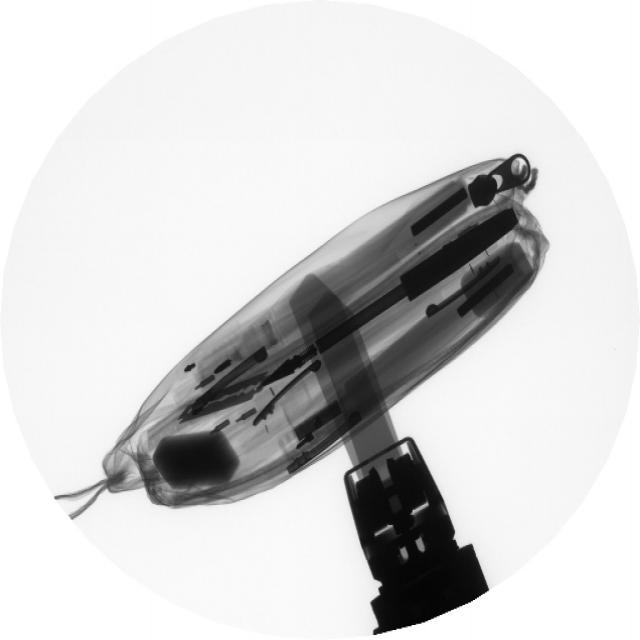BLADE: (169, 364, 267, 433)
